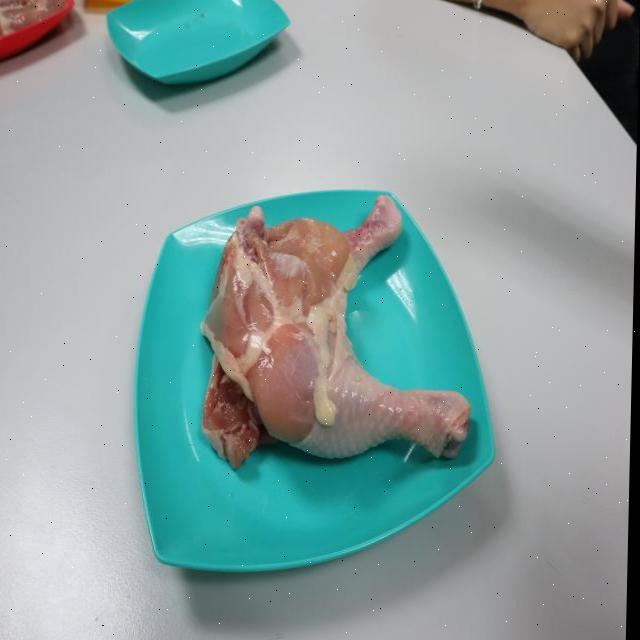quater: (205, 233, 472, 484), (180, 205, 408, 368)
